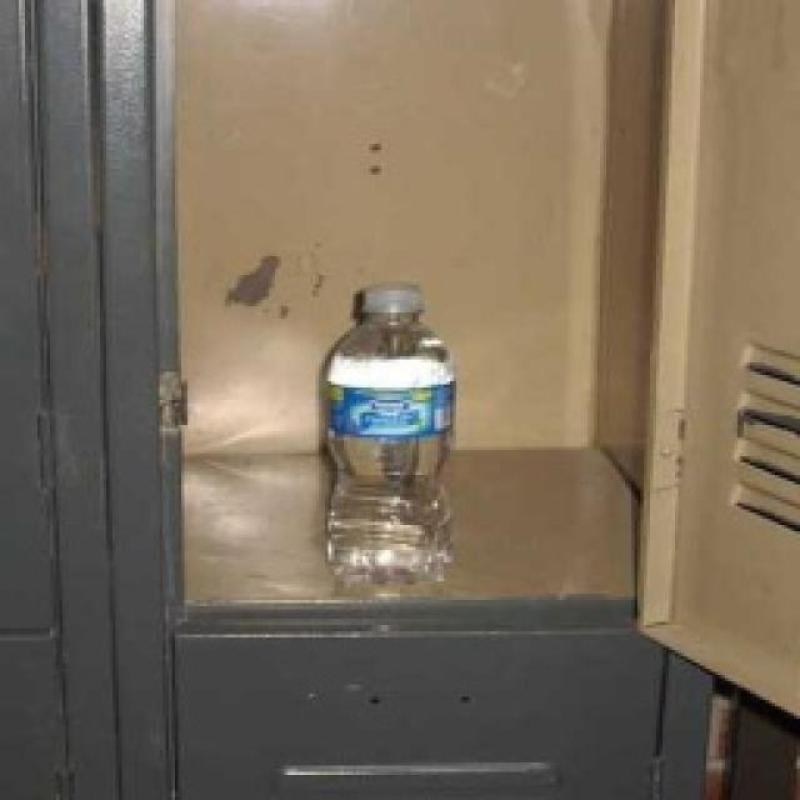botella: (319, 286, 456, 586)
